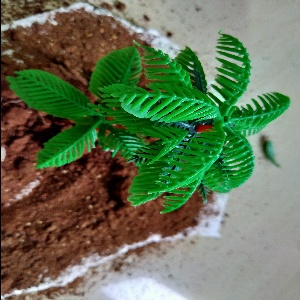plant: (13, 23, 291, 212)
